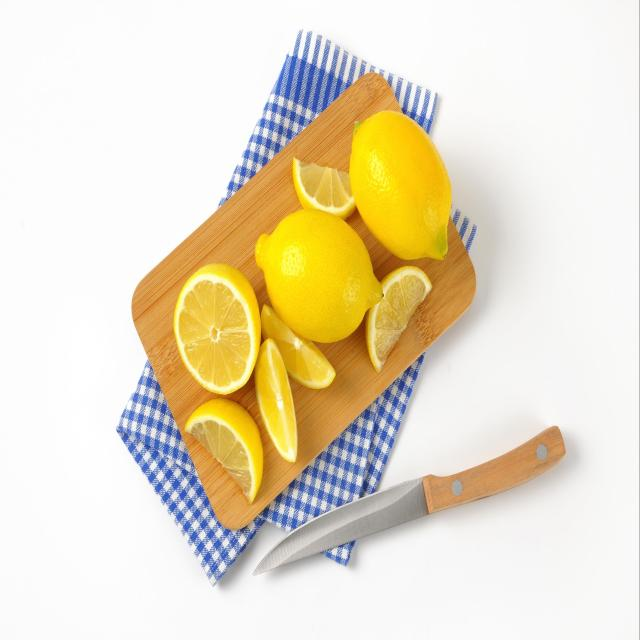lemon: (254, 206, 386, 345), (348, 107, 453, 264), (171, 260, 263, 396), (183, 394, 265, 508)
